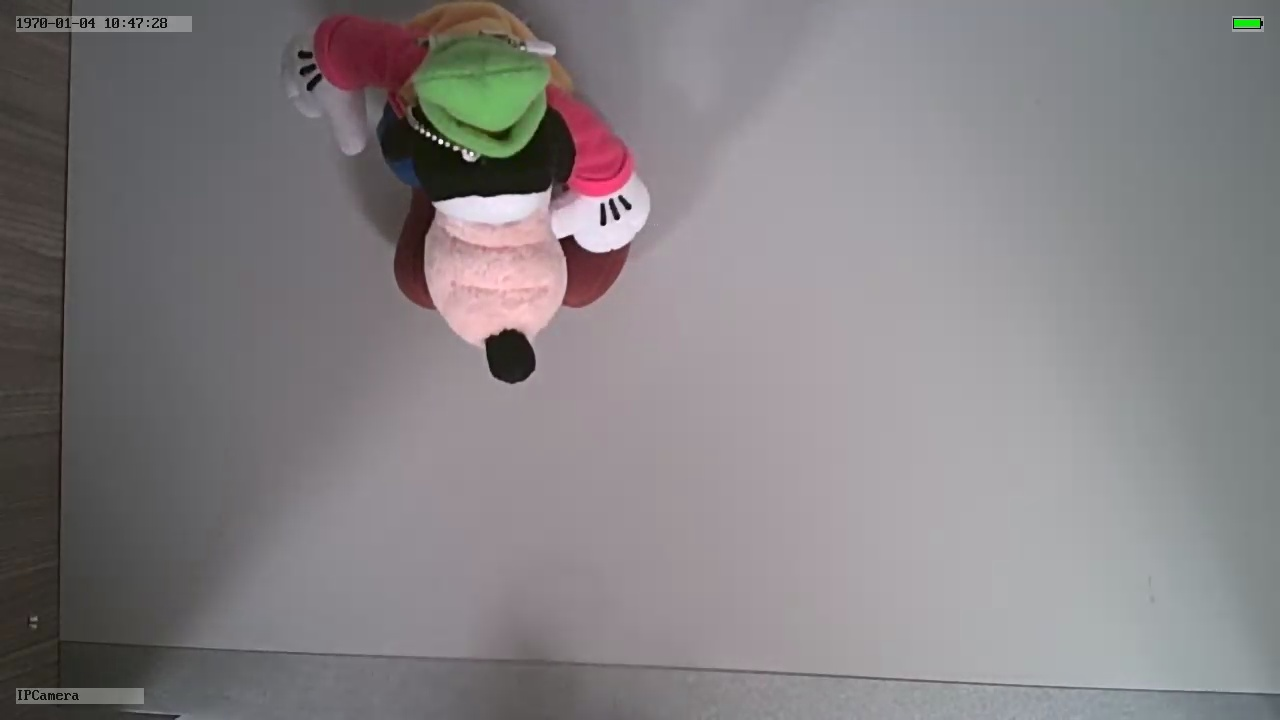goofy: (281, 8, 656, 385)
